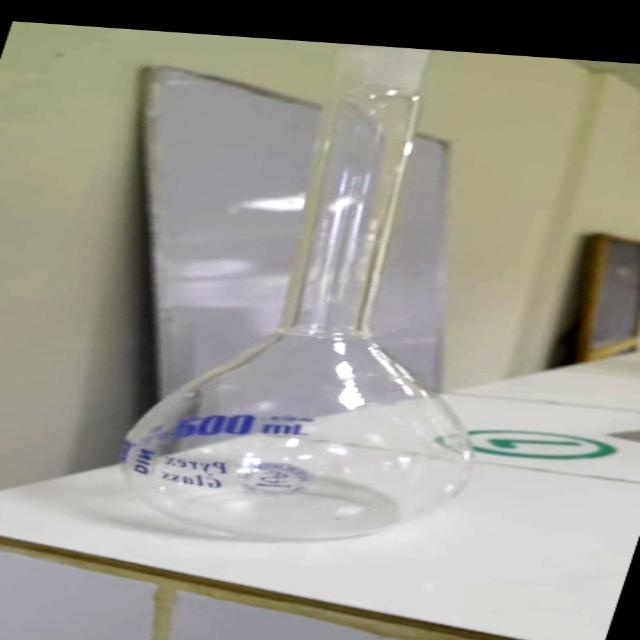Volumetric flask: (90, 38, 619, 552)
